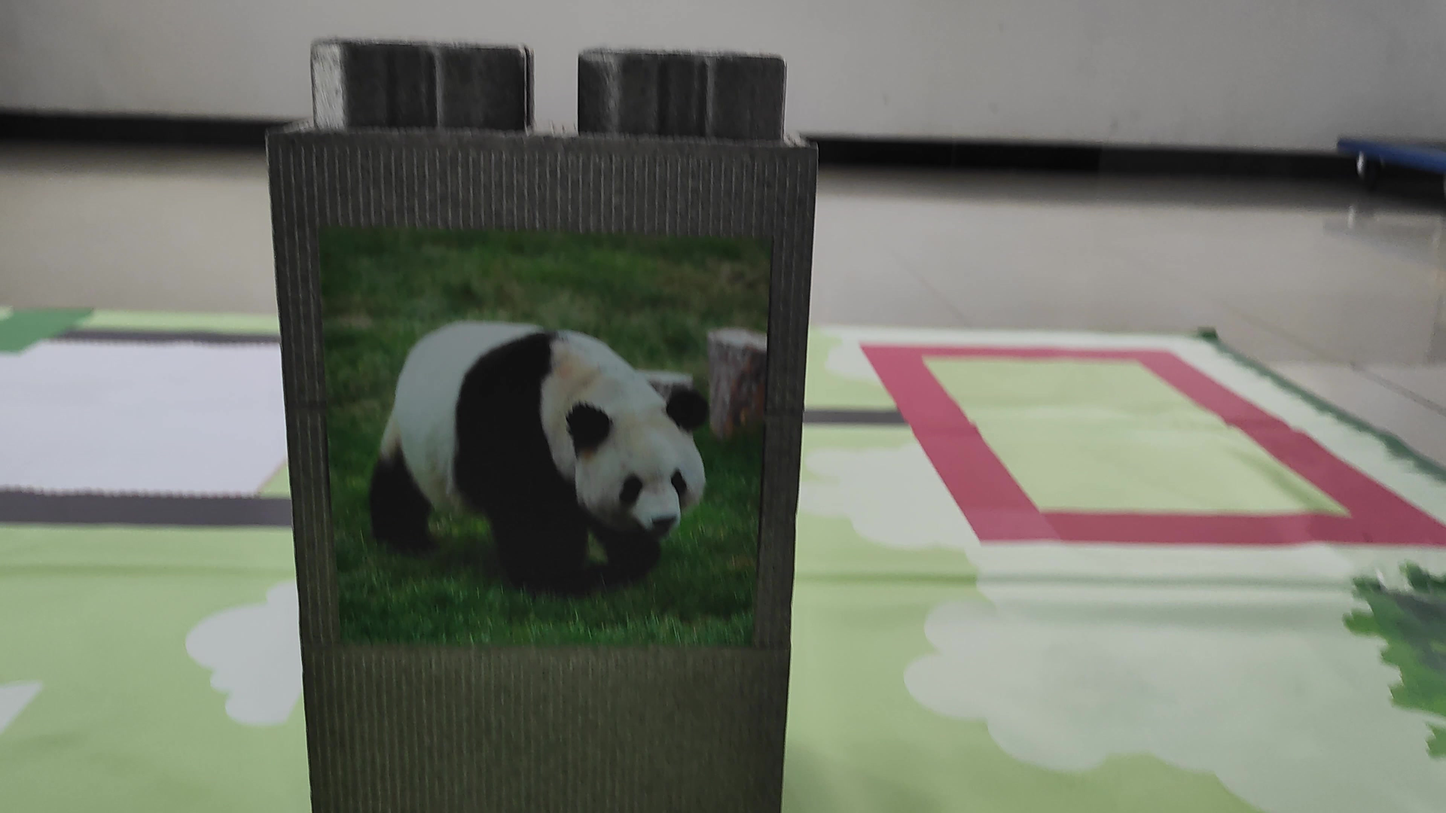panda: (362, 289, 729, 629)
